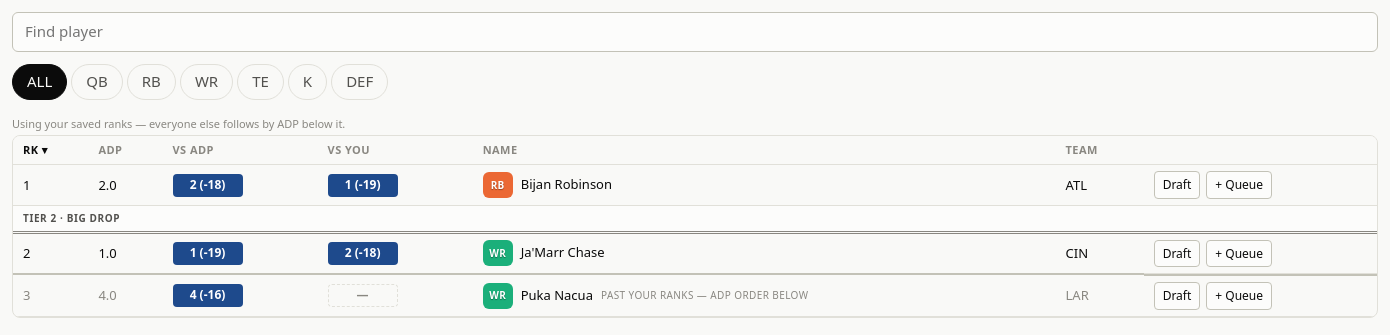
Scenario: sorting by ADP › suppresses tier dividers while sorted by ADP
expect the text "Bijan Robinson" is shown: met, box [521, 175, 612, 193]
expect the row with class "draft-pool-tier-divider" is shown: met, box [13, 206, 1377, 232]
Click the button "ADP": (110, 150) [98, 142, 122, 158]
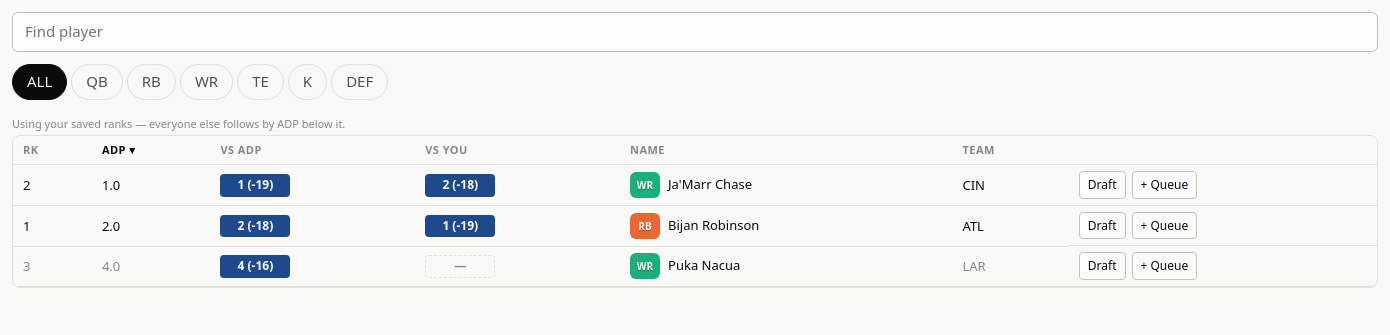
expect the row with class "draft-pool-tier-divider" is gone: met
